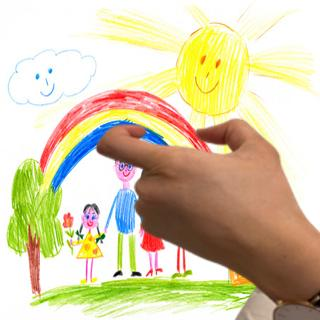HATE: (89, 112, 305, 279)
